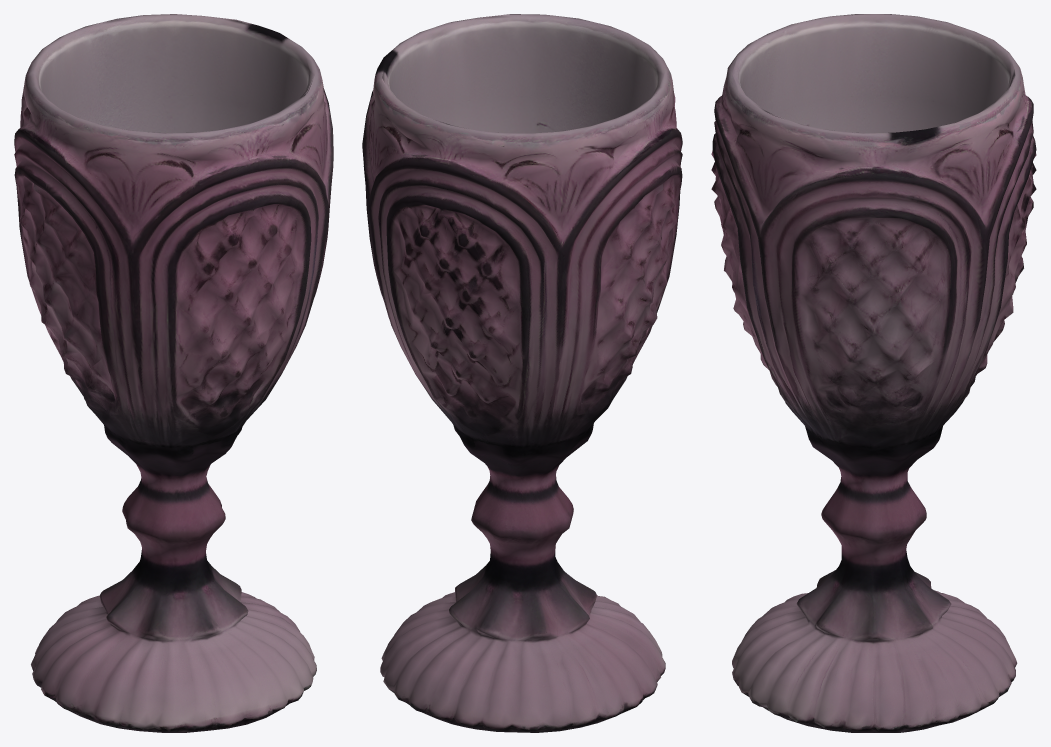
File: Glass_Goblet_Carousel _0222192918_texture.glb
3 renders of one model, left to right at view 1: azimuth 30°, elevation 25°; view 2: azimuth 150°, elevation 25°; view 3: azimuth 270°, elevation 25°, orthographic.
Parts seen in each view (by area): view 1: Mesh_0; view 2: Mesh_0; view 3: Mesh_0.
Boxes of the visible parts, bbox=[...] form: Mesh_0: bbox=[14, 14, 333, 732]; Mesh_0: bbox=[362, 14, 682, 732]; Mesh_0: bbox=[711, 14, 1036, 732].
Size of the model in its own units: 0.1211 by 0.2489 by 0.1211.
Materials: 1 (1 with a texture image).
